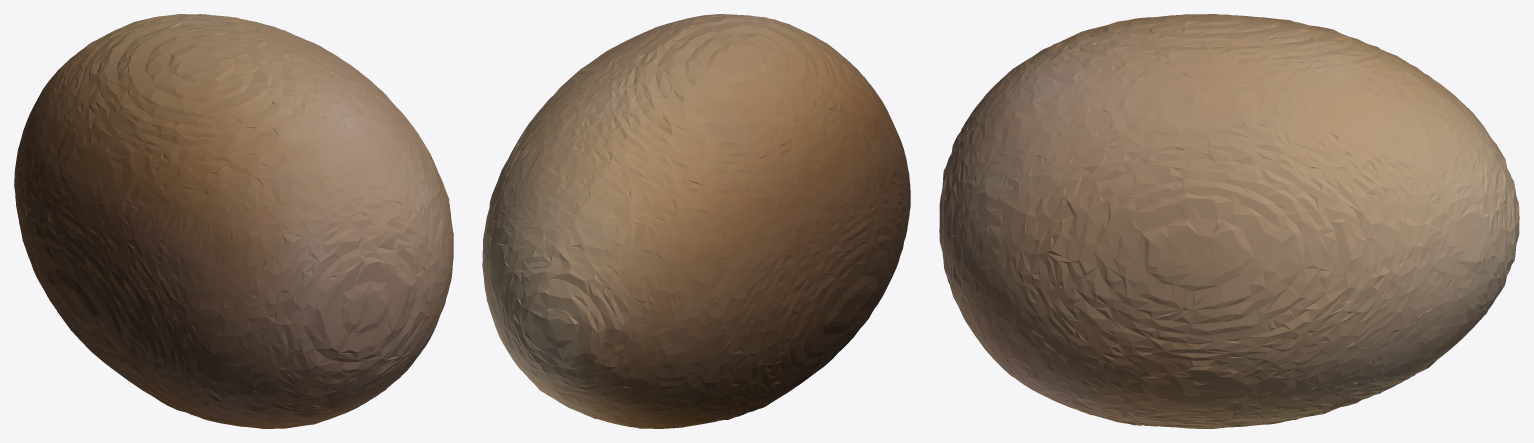
The model's file is egg_2.glb.
3 renders of one model, left to right at view 1: azimuth 30°, elevation 25°; view 2: azimuth 150°, elevation 25°; view 3: azimuth 270°, elevation 25°, orthographic. The views are drawn at different scales.
Visible parts, largest first — view 1: geometry_0; view 2: geometry_0; view 3: geometry_0.
Boxes of the visible parts, bbox=[...] form: geometry_0: bbox=[14, 14, 453, 428]; geometry_0: bbox=[482, 14, 910, 428]; geometry_0: bbox=[939, 14, 1519, 428].
Size of the model in its own units: 0.7121 by 0.719 by 1.
